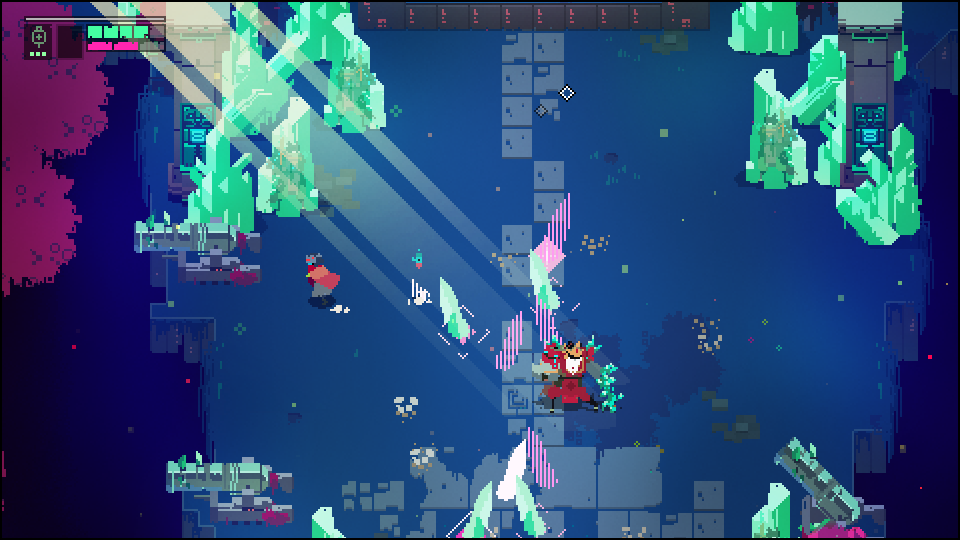hanged_crys: (537, 190, 572, 264), (524, 247, 562, 312), (436, 275, 469, 337), (493, 312, 525, 374), (458, 485, 491, 540), (516, 476, 542, 532)
hanged_man: (541, 334, 624, 421)
player: (302, 250, 342, 303)
